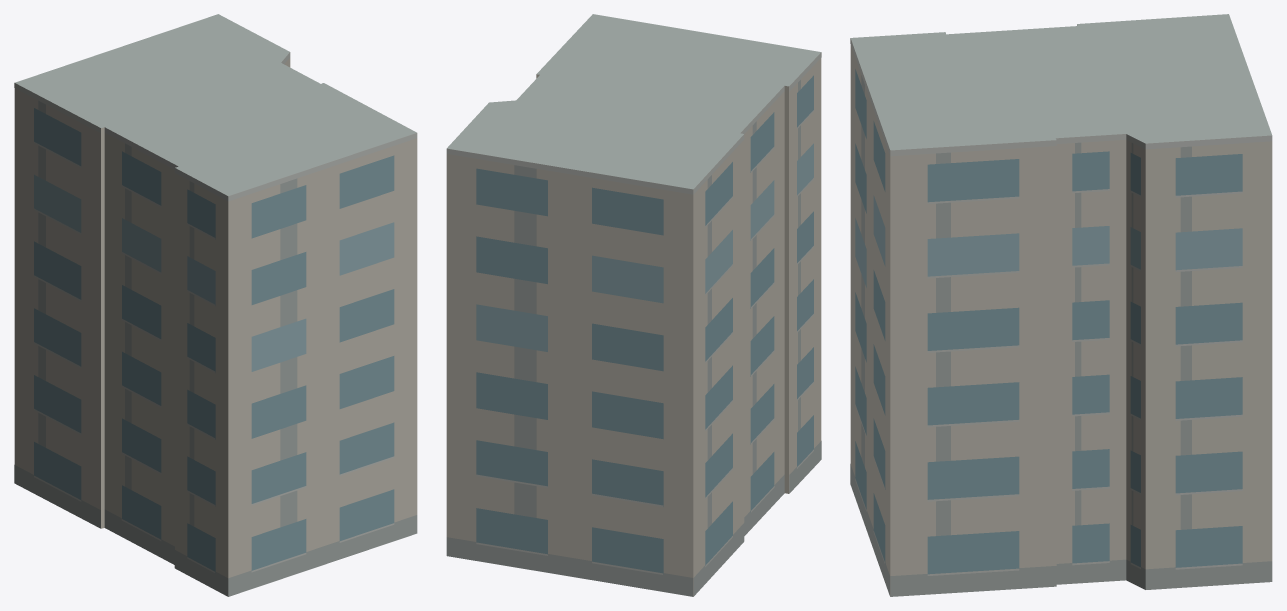
The model's file is survey-upis-32708379.glb.
The picture shows the model from 3 angles, left to right: view 1: azimuth 30°, elevation 25°; view 2: azimuth 150°, elevation 25°; view 3: azimuth 270°, elevation 25°; orthographic projection. The views are drawn at different scales.
Visible parts, largest first — view 1: survey-upis-32708379.tmp; view 2: survey-upis-32708379.tmp; view 3: survey-upis-32708379.tmp.
Part boxes in pixels (x1,y1,x2,y2): survey-upis-32708379.tmp: (14, 14, 417, 596); survey-upis-32708379.tmp: (446, 14, 821, 596); survey-upis-32708379.tmp: (850, 14, 1272, 596).
Bounding box in the file's own units: 12.13 × 18.5 × 15.85.
